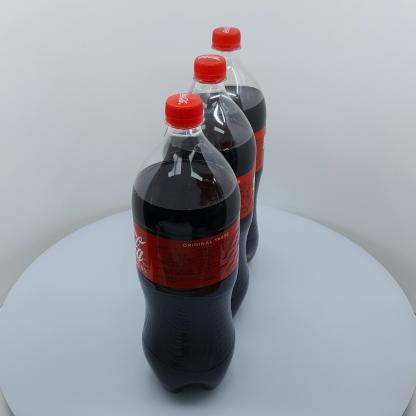----1-5L: (131, 93, 241, 393)
